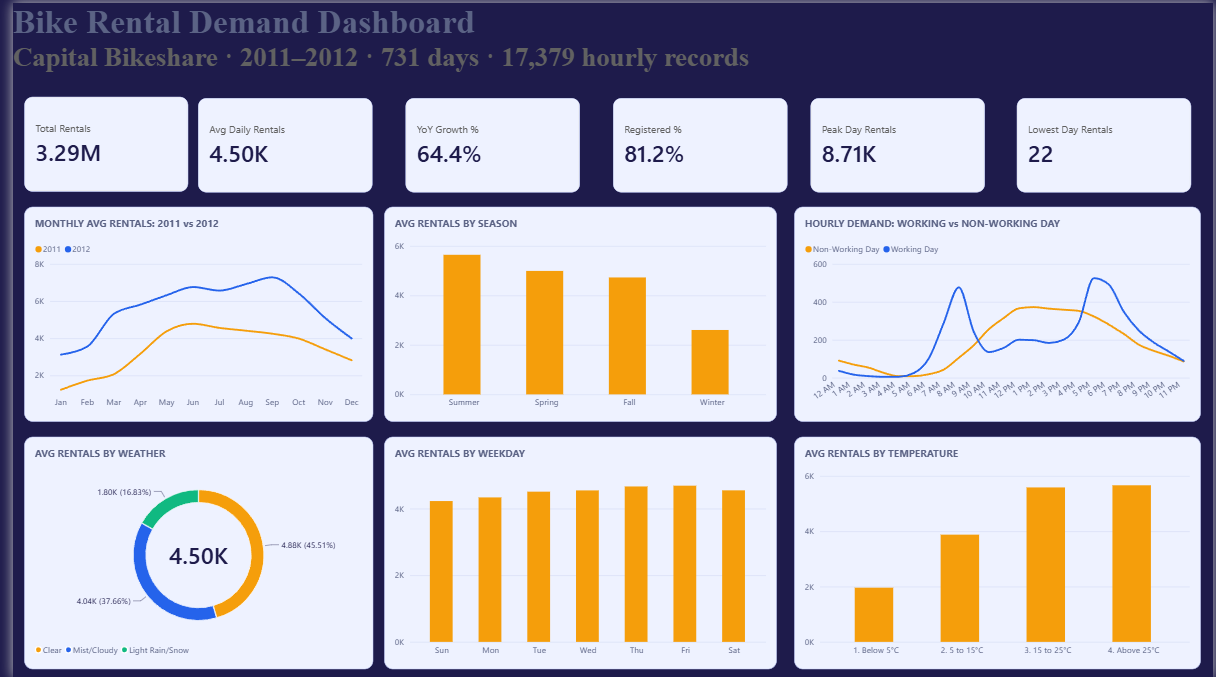

This screenshot's page, from the dashboard's own definition file:
{"tool":"powerbi","page":{"name":"Page 1","canvas":[1920,1080],"ordinal":0},"visuals":[{"type":"textbox","title":"Bike Rental Demand Dashboard","box":[0,0,1919.5,120.1],"z":0},{"type":"cardVisual","fields":{"Data":["day.Total Rentals"]},"box":[18,150,262,152],"z":1000},{"type":"cardVisual","fields":{"Data":["day.Avg Daily Rentals"]},"box":[296.5,151.5,279.2,151.5],"z":2000},{"type":"cardVisual","fields":{"Data":["day.YoY Growth %"]},"box":[627.6,151.5,279.2,151.5],"z":3000},{"type":"cardVisual","fields":{"Data":["day.Registered %"]},"box":[960.9,151.5,279.2,151.5],"z":4000},{"type":"cardVisual","fields":{"Data":["day.Peak Day Rentals"]},"box":[1276.8,151.5,279,151],"z":5000},{"type":"cardVisual","fields":{"Data":["day.Lowest Day Rentals"]},"box":[1605.8,151.5,279,151],"z":6000},{"type":"lineChart","title":"MONTHLY AVG RENTALS: 2011 vs 2012","fields":{"Category":["day.Month Name"],"Series":["day.Year Label"],"Y":["day.Avg Daily Rentals"]},"box":[18,326,558,344],"z":6001},{"type":"clusteredColumnChart","title":"AVG RENTALS BY SEASON","fields":{"Category":["day.Season Name"],"Y":["day.Avg Daily Rentals"]},"box":[594,326,628,344],"z":6002},{"type":"lineChart","title":"HOURLY DEMAND: WORKING vs NON-WORKING DAY","fields":{"Category":["hour.Hour Label"],"Series":["hour.Day Type"],"Y":["day.Avg Hourly Rentals"]},"box":[1250,326,650,344],"z":6003},{"type":"donutChart","title":"AVG RENTALS BY WEATHER","fields":{"Category":["day.Weather Name"],"Y":["day.Avg Daily Rentals"]},"box":[18,694,558,372],"z":6004},{"type":"clusteredColumnChart","title":"AVG RENTALS BY WEEKDAY","fields":{"Category":["day.Weekday Name"],"Y":["day.Avg Daily Rentals"]},"box":[594,694,628,372],"z":6005},{"type":"clusteredColumnChart","title":"AVG RENTALS BY TEMPERATURE ","fields":{"Category":["day.Temp Band"],"Y":["day.Avg Daily Rentals"]},"box":[1250,694,650,372],"z":6006}]}

Visuals, with their boxes in screenshot pixels (x1, y1, x2, y2), scaled from the page's 1920x1080 canvas onto the 1216x677 screenshot:
"Bike Rental Demand Dashboard" textbox: [0, 0, 1215, 75]
cardVisual - day.Total Rentals: [11, 94, 177, 189]
cardVisual - day.Avg Daily Rentals: [188, 95, 365, 190]
cardVisual - day.YoY Growth %: [397, 95, 574, 190]
cardVisual - day.Registered %: [609, 95, 785, 190]
cardVisual - day.Peak Day Rentals: [809, 95, 985, 190]
cardVisual - day.Lowest Day Rentals: [1017, 95, 1194, 190]
"MONTHLY AVG RENTALS: 2011 vs 2012" lineChart: [11, 204, 365, 420]
"AVG RENTALS BY SEASON" clusteredColumnChart: [376, 204, 774, 420]
"HOURLY DEMAND: WORKING vs NON-WORKING DAY" lineChart: [792, 204, 1203, 420]
"AVG RENTALS BY WEATHER" donutChart: [11, 435, 365, 668]
"AVG RENTALS BY WEEKDAY" clusteredColumnChart: [376, 435, 774, 668]
"AVG RENTALS BY TEMPERATURE " clusteredColumnChart: [792, 435, 1203, 668]
